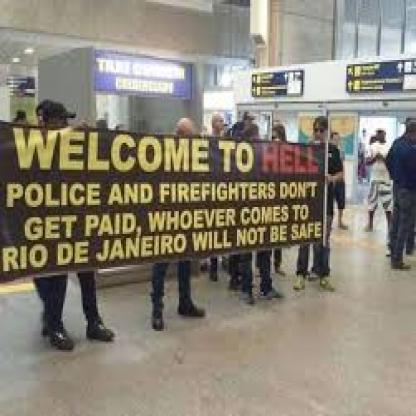BANNER: (0, 126, 341, 286)
